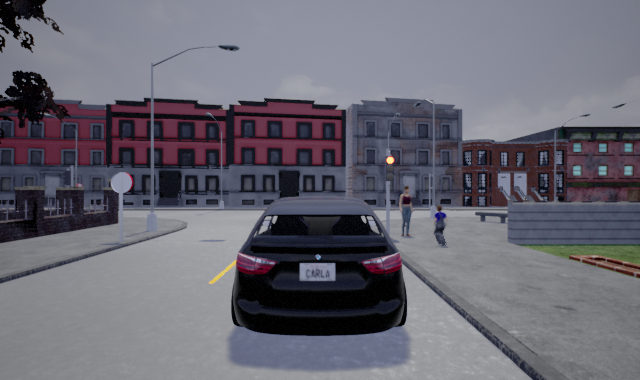pedestrian: (398, 185, 412, 237), (432, 206, 448, 246)
traffic_light: (385, 155, 395, 181)
vehicle: (231, 198, 408, 335)
